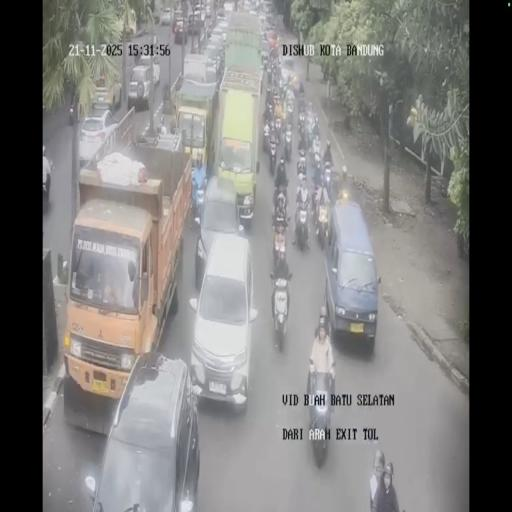3: (172, 77, 218, 189), (221, 11, 264, 91), (88, 76, 122, 115)
car: (90, 352, 200, 510), (323, 199, 379, 349), (194, 175, 242, 283), (78, 109, 120, 168), (202, 40, 224, 80), (138, 54, 161, 88), (280, 55, 296, 84), (262, 29, 278, 56), (215, 16, 230, 44), (160, 7, 172, 26), (196, 8, 207, 27), (264, 12, 275, 30), (173, 10, 183, 29), (223, 1, 234, 15), (262, 0, 272, 15), (152, 6, 160, 24), (187, 10, 195, 26), (204, 4, 212, 18), (248, 4, 258, 15)
truck: (307, 368, 334, 460), (269, 269, 292, 348), (271, 222, 290, 274), (190, 167, 206, 222), (314, 197, 330, 249), (293, 205, 310, 251), (333, 169, 351, 205), (266, 130, 280, 176), (321, 162, 334, 202), (283, 120, 293, 163), (273, 109, 284, 143), (268, 63, 280, 91), (312, 150, 322, 182), (297, 128, 308, 156), (296, 153, 306, 179), (286, 94, 294, 121), (297, 83, 305, 106), (261, 49, 268, 71)
